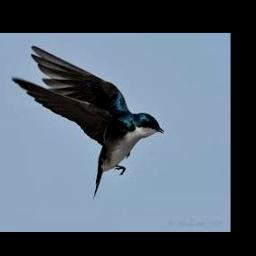Swallow: (12, 44, 163, 198)
